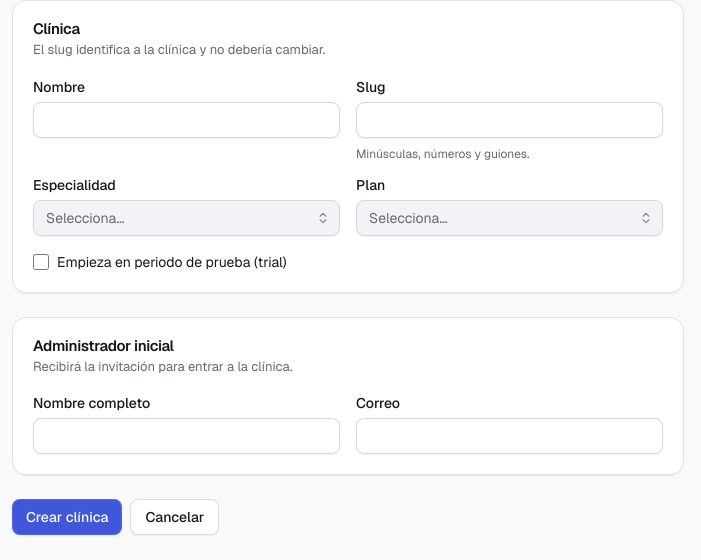
Test: CreateClinicForm › VALIDATION_ERROR del backend se muestra en el campo
This screenshot has width=701, height=560.
Type "Centro Podologico X" into the field labelled "Nombre".
click(186, 120); type("Centro Podologico X")  # box [33,102,340,138]
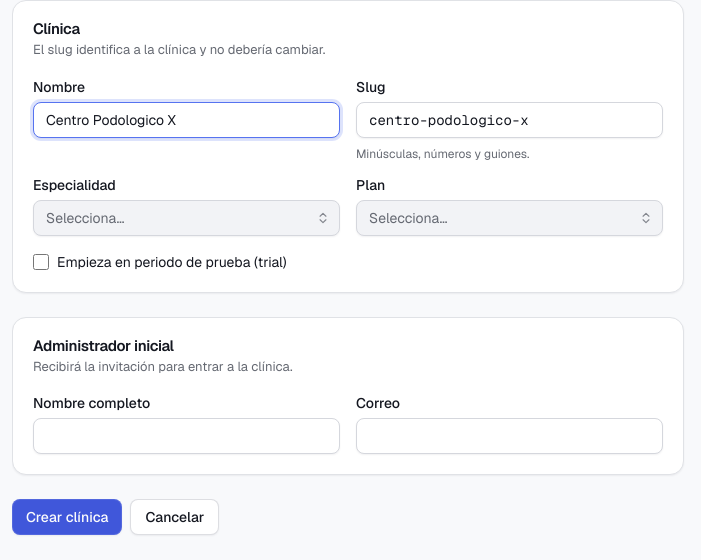
Select "Podología" in the dropdown labelled "Especialidad" at (186, 218), box [33,200,340,236]
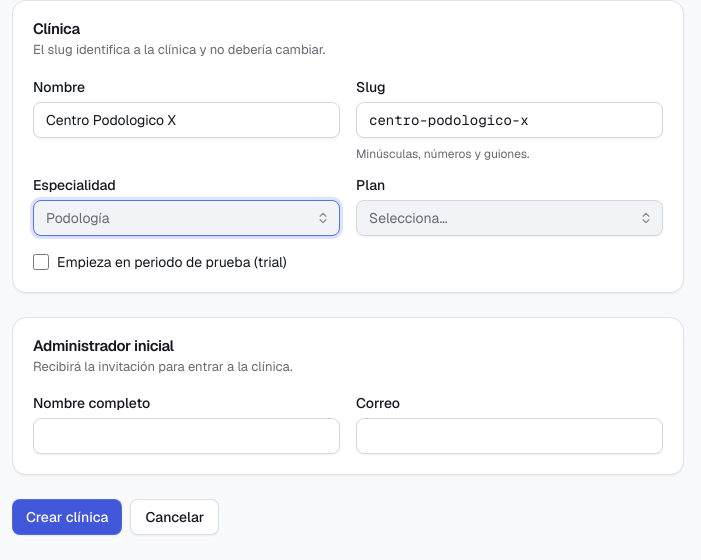
Select "Pro" in the dropdown labelled "Plan" at (510, 218), box [356,200,663,236]
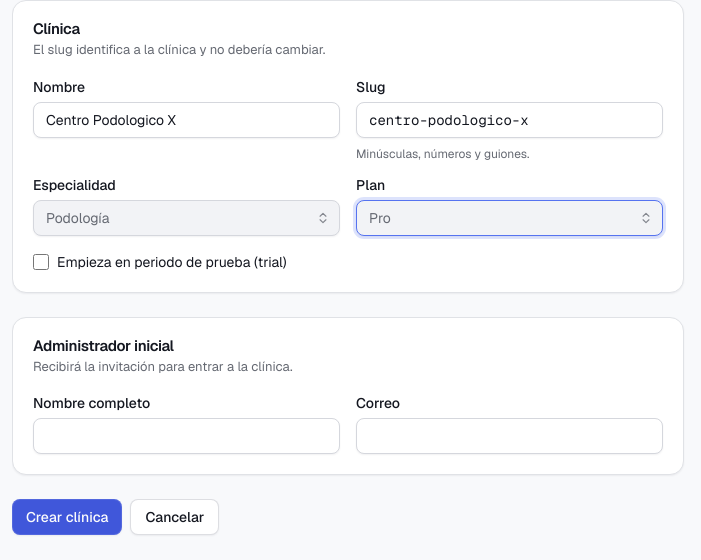
Type "Pedro Pie" into the field labelled "Nombre completo".
click(186, 436); type("Pedro Pie")  # box [33,418,340,454]
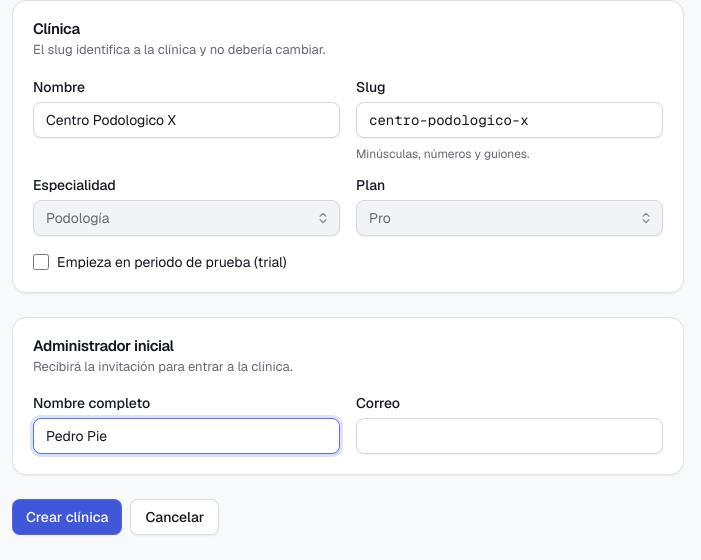
Type "pedro@pies.com" into the field labelled "Correo".
click(510, 436); type("pedro@pies.com")  # box [356,418,663,454]
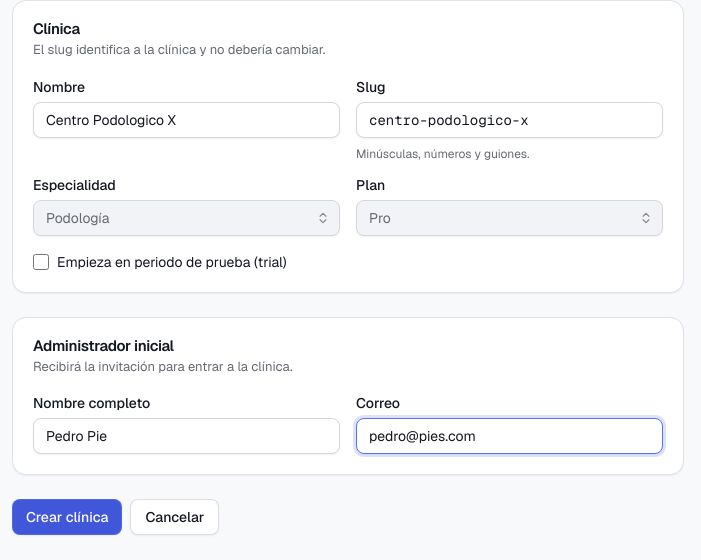
Click the button "Crear clínica".
click(67, 517)  # box [12,499,122,535]
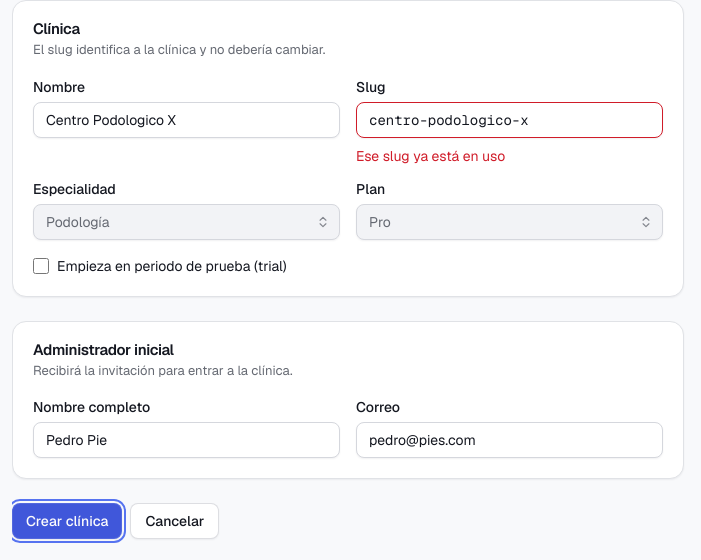
Result: the text "Ese slug ya está en uso" is shown at [356,146,505,164]
